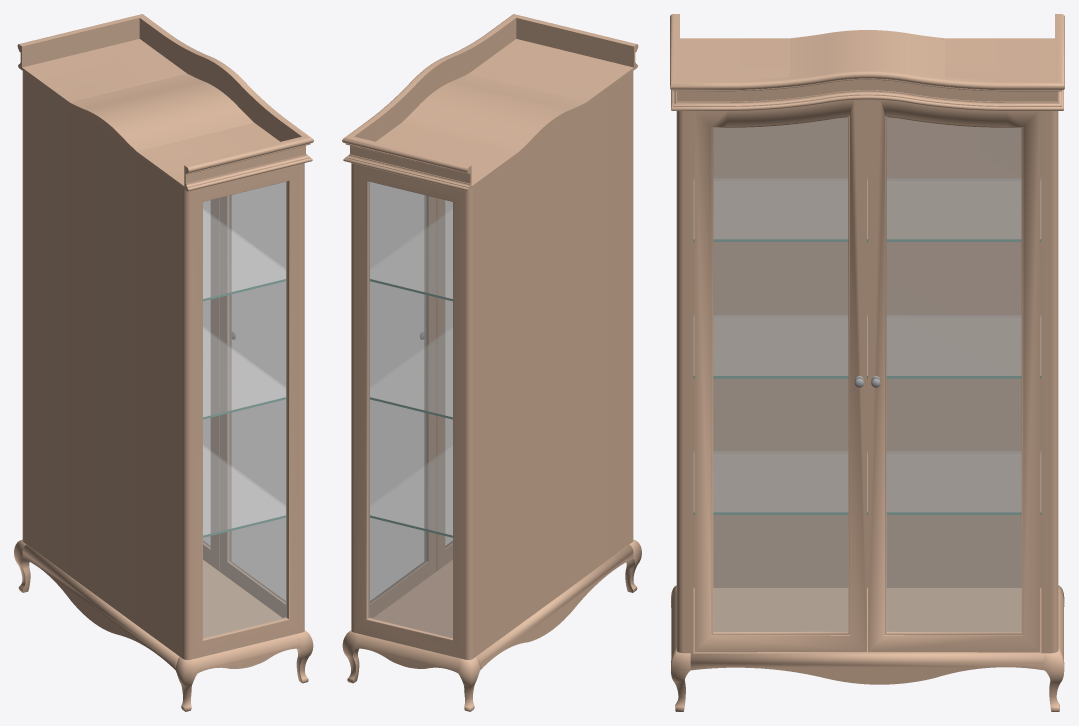
Rendered from cristaleira-kerner.glb.
The picture shows the model from 3 angles, left to right: view 1: azimuth 30°, elevation 25°; view 2: azimuth 150°, elevation 25°; view 3: azimuth 270°, elevation 25°; orthographic projection. The views are drawn at different scales.
Parts seen in each view (by area): view 1: object 4, object 3, object 19, object 7, object 8, object 22, object 20, object 21, object 9, object 18, object 10, object 12 (+4 smaller); view 2: object 4, object 5, object 19, object 6, object 9, object 20, object 21, object 22, object 8, object 18, object 10, object 13 (+4 smaller); view 3: object 4, object 6, object 7, object 19, object 8, object 9, object 20, object 21, object 22, object 10, object 17, object 15 (+1 smaller).
Part boxes in pixels (box(x1,y1,x2,y2)): object 4: box(22, 71, 304, 659); object 3: box(203, 181, 287, 638); object 19: box(17, 14, 313, 191); object 7: box(229, 182, 285, 602); object 8: box(219, 195, 285, 617); object 22: box(203, 445, 285, 537); object 20: box(203, 327, 285, 419); object 21: box(203, 209, 285, 301); object 9: box(203, 198, 219, 570); object 18: box(22, 544, 179, 669); object 10: box(203, 560, 281, 637); object 12: box(195, 634, 299, 672); object 4: box(351, 71, 633, 659); object 5: box(368, 181, 452, 638); object 19: box(342, 14, 638, 191); object 6: box(370, 182, 426, 602); object 9: box(370, 195, 436, 617); object 20: box(370, 327, 452, 419); object 21: box(370, 209, 452, 301); object 22: box(370, 445, 452, 537); object 8: box(436, 198, 452, 570); object 18: box(476, 544, 633, 669); object 10: box(374, 560, 452, 637); object 13: box(356, 634, 460, 672); object 4: box(676, 99, 1058, 653); object 6: box(886, 117, 1021, 632); object 7: box(713, 117, 848, 632); object 19: box(670, 14, 1064, 110); object 8: box(694, 99, 866, 652); object 9: box(868, 99, 1040, 652); object 20: box(693, 315, 1041, 378); object 21: box(693, 178, 1041, 241); object 22: box(693, 451, 1041, 514); object 10: box(693, 588, 1041, 653); object 17: box(690, 653, 1044, 684); object 15: box(1044, 648, 1064, 711).
Size of the model in its own units: 0.4916 by 1.97 by 1.1.
